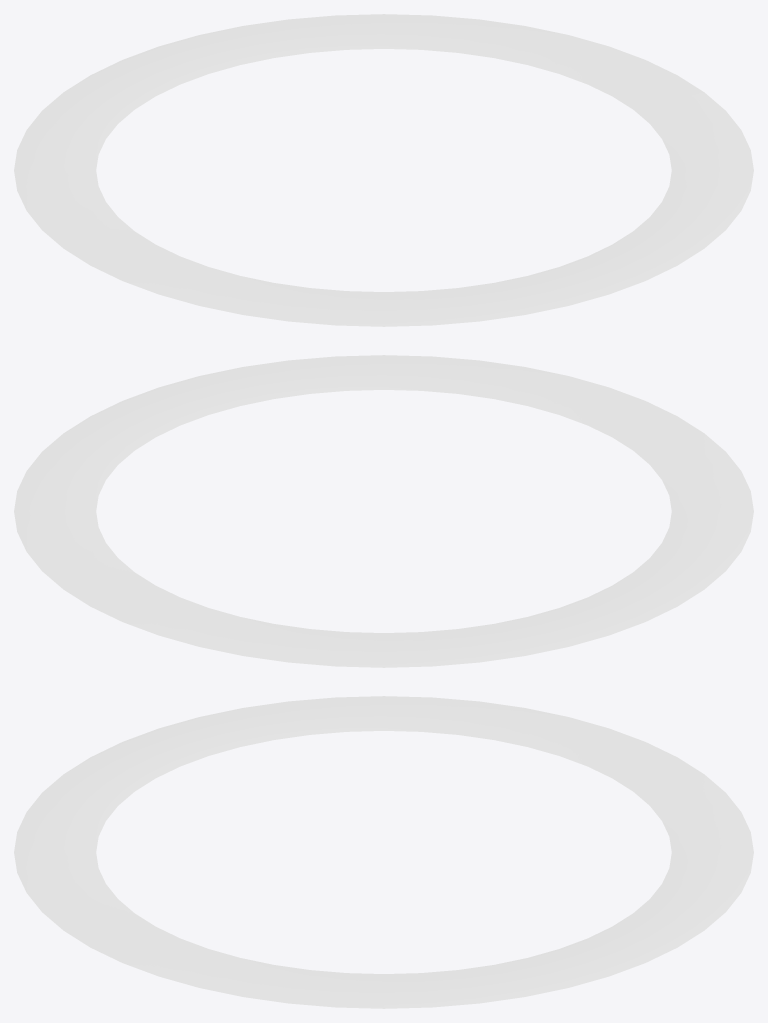
File: HO_VFX_Shockwave_Flat.fbx
3 views of the same model, one above another, from view 1: azimuth 30°, elevation 25°; view 2: azimuth 150°, elevation 25°; view 3: azimuth 270°, elevation 25° (orthographic).
Visible parts, largest first — view 1: HO_VFX_Shockwave_Flat; view 2: HO_VFX_Shockwave_Flat; view 3: HO_VFX_Shockwave_Flat.
Part boxes in pixels (x1,y1,x2,y2): HO_VFX_Shockwave_Flat: (14,14,753,326); HO_VFX_Shockwave_Flat: (14,355,753,667); HO_VFX_Shockwave_Flat: (14,696,753,1008).
Bounding box in the file's own units: 18 × 0.02 × 18.
